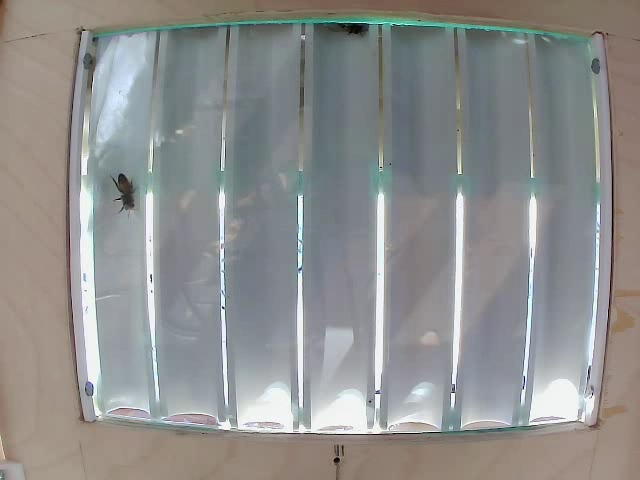bee: (113, 176, 160, 222)
